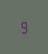nine: (19, 20, 27, 33)
